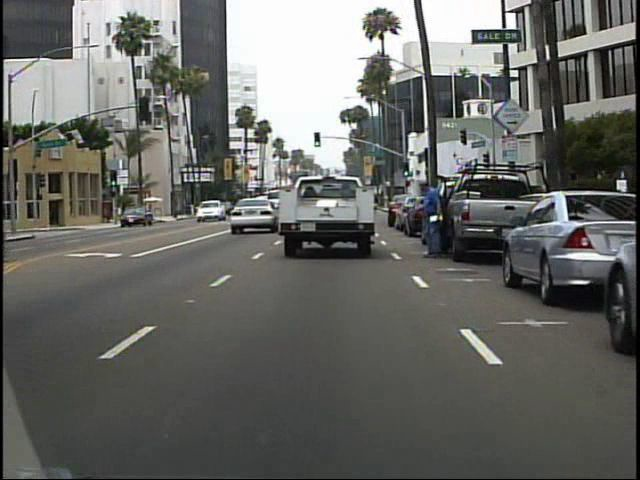person: (414, 177, 450, 264)
